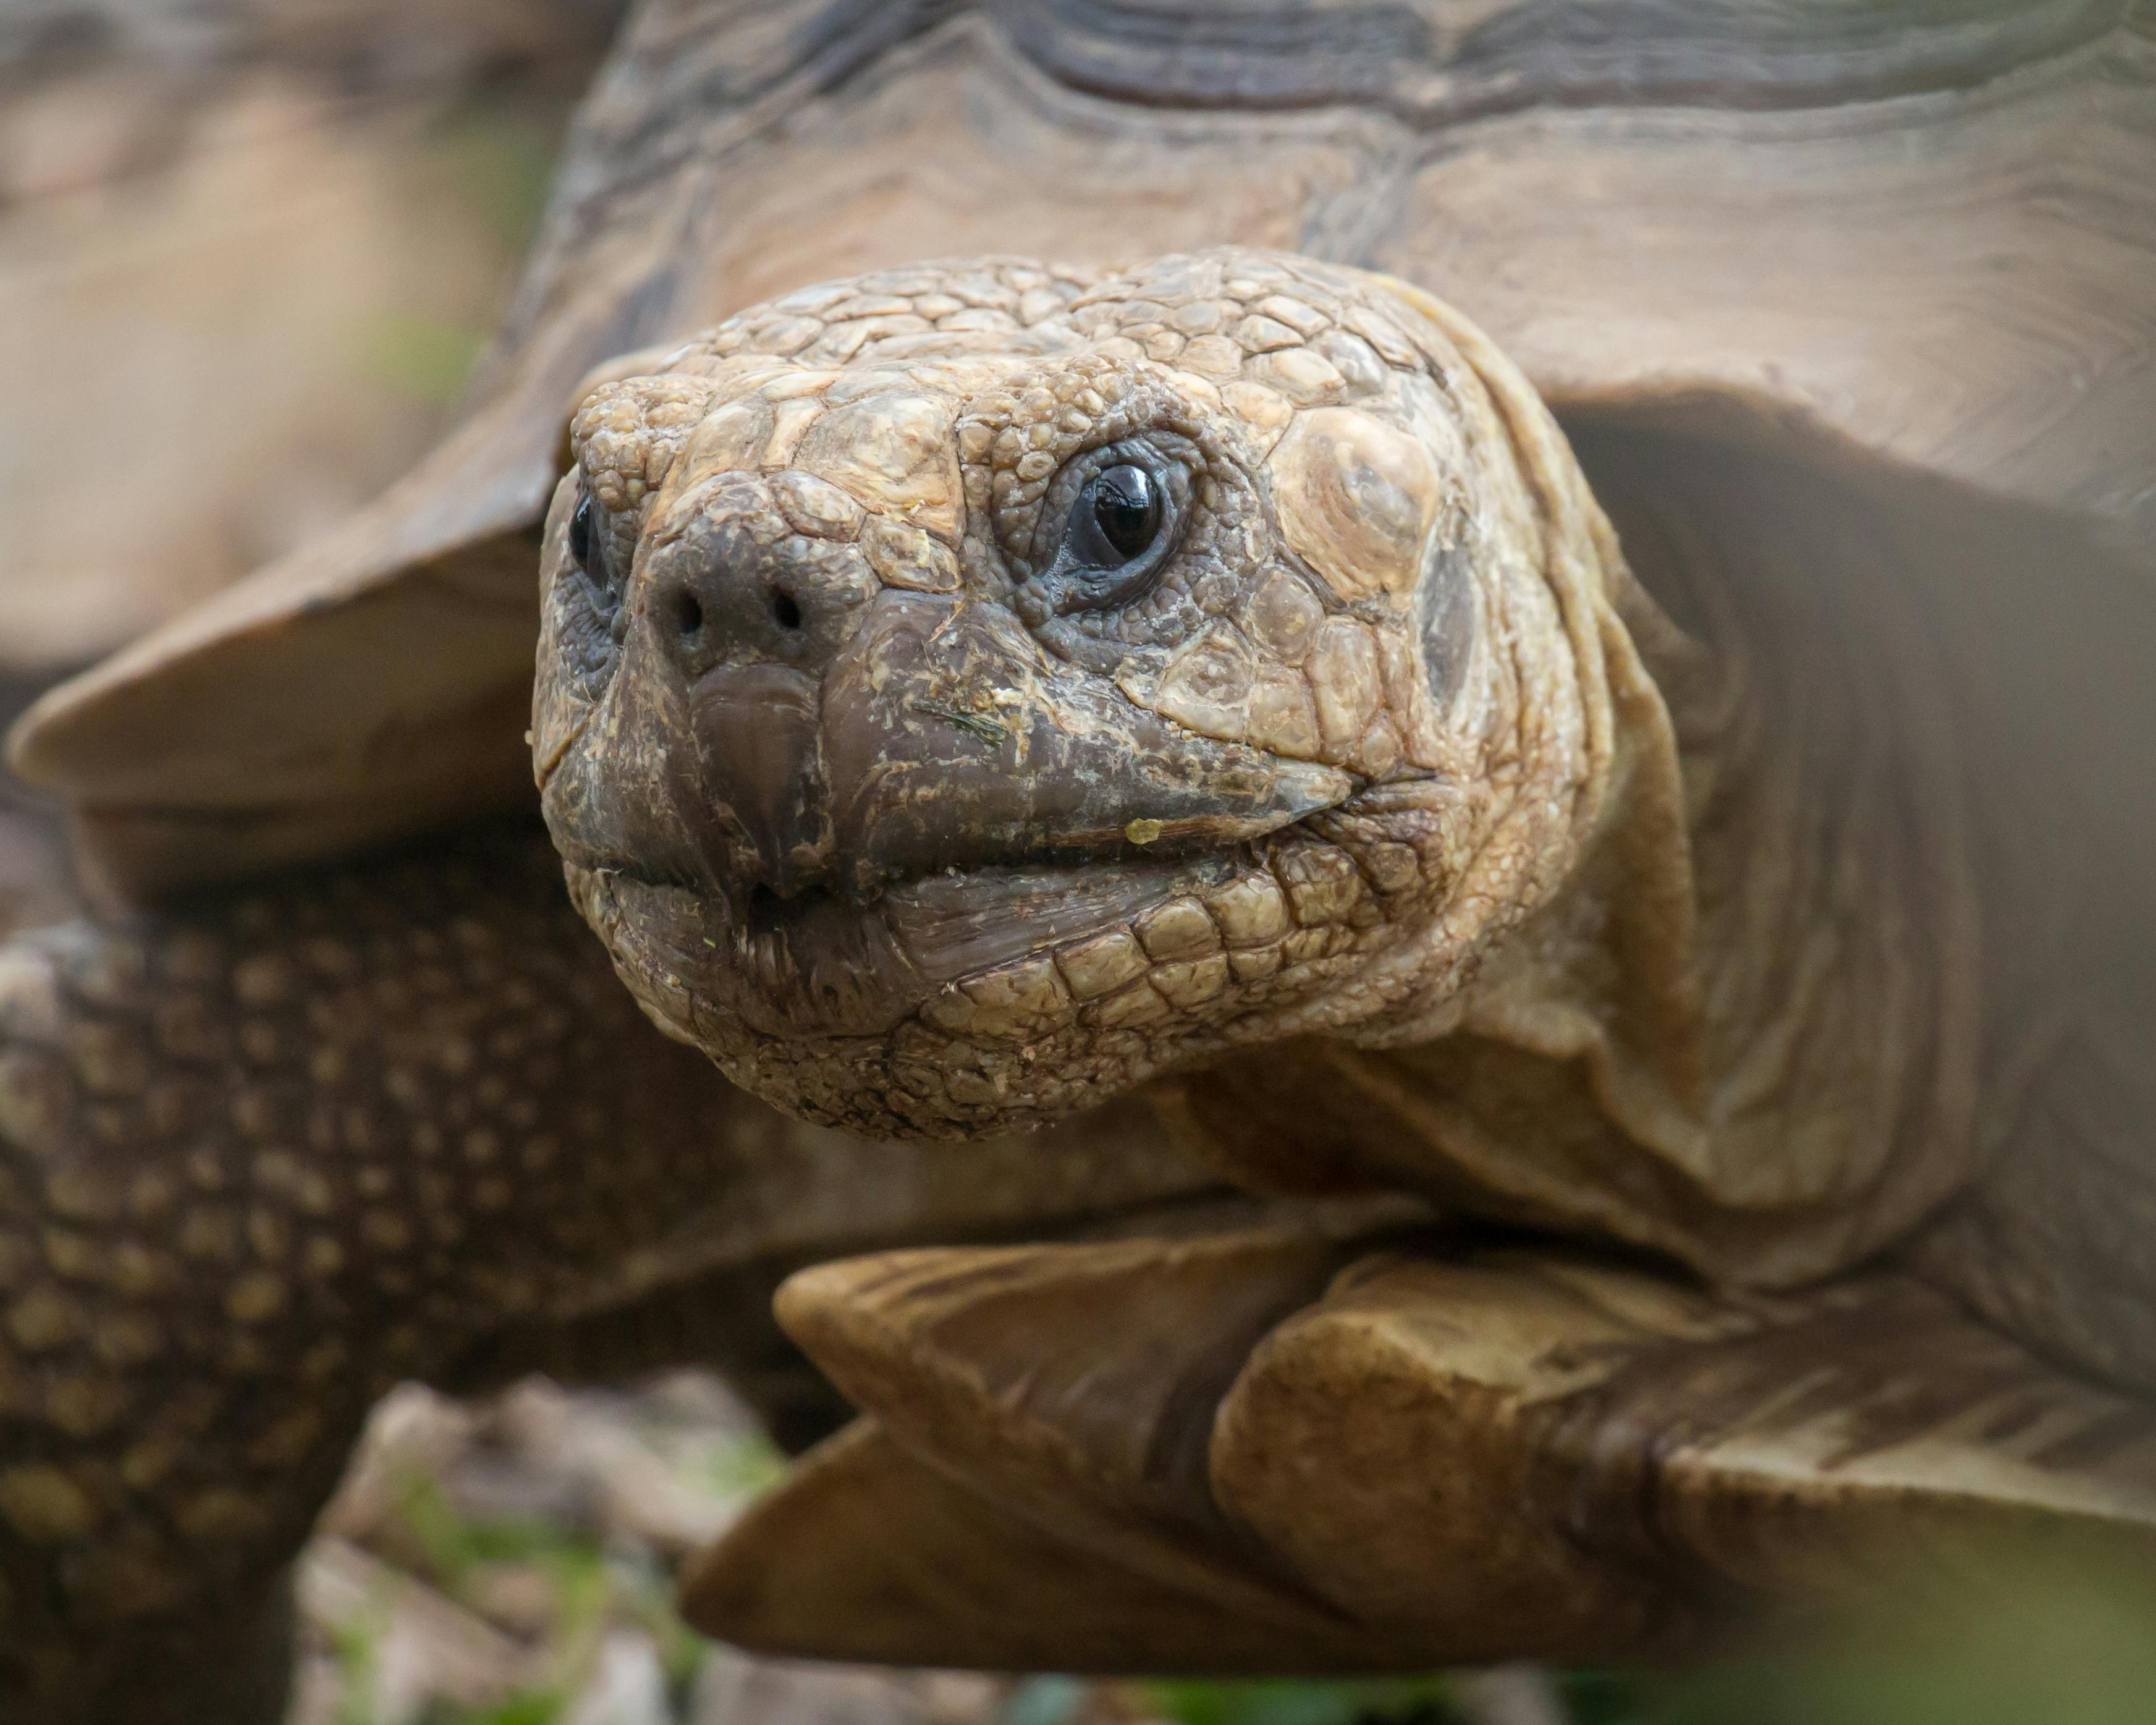turtle: (5, 194, 2156, 1720)
